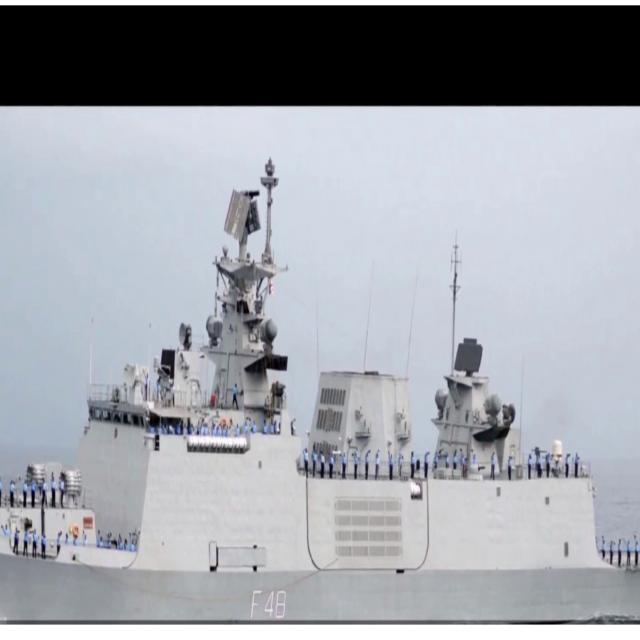OCR: (240, 586, 293, 623)
